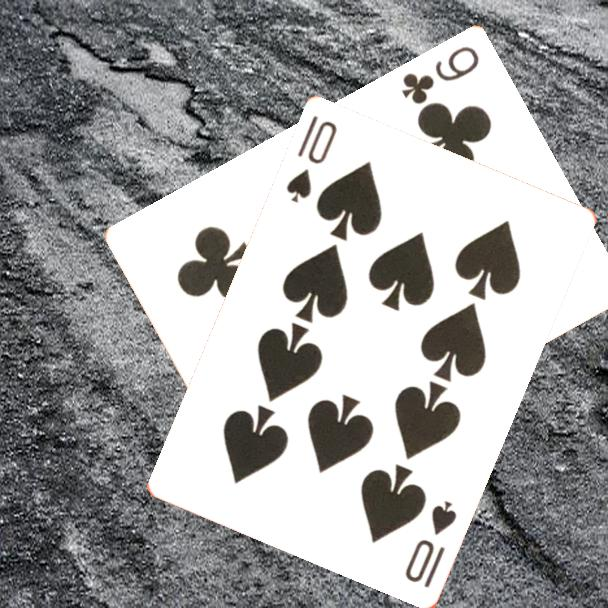c09: (397, 43, 482, 108)
s10: (401, 497, 460, 592), (283, 112, 341, 207)
